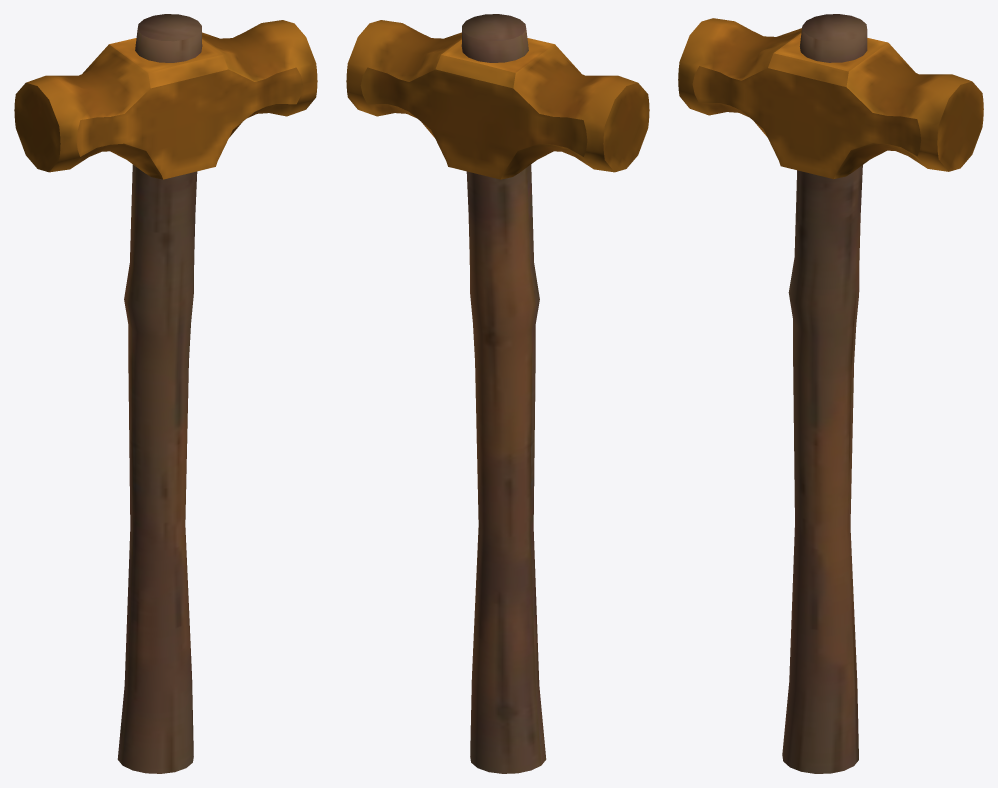
Rendered from prop_hammer_large_bronze.glb.
3 views of the same model, side by side, from view 1: azimuth 30°, elevation 25°; view 2: azimuth 150°, elevation 25°; view 3: azimuth 330°, elevation 25° (orthographic).
Visible parts, largest first — view 1: Hammer_Large_Bronze; view 2: Hammer_Large_Bronze; view 3: Hammer_Large_Bronze.
Part boxes in pixels (box(x1,y1,x2,y2)): Hammer_Large_Bronze: box(14, 14, 317, 773); Hammer_Large_Bronze: box(346, 14, 649, 773); Hammer_Large_Bronze: box(678, 14, 983, 773).
Size of the model in its own units: 0.1852 by 0.5008 by 0.0597.
1 material, 1 textured.
